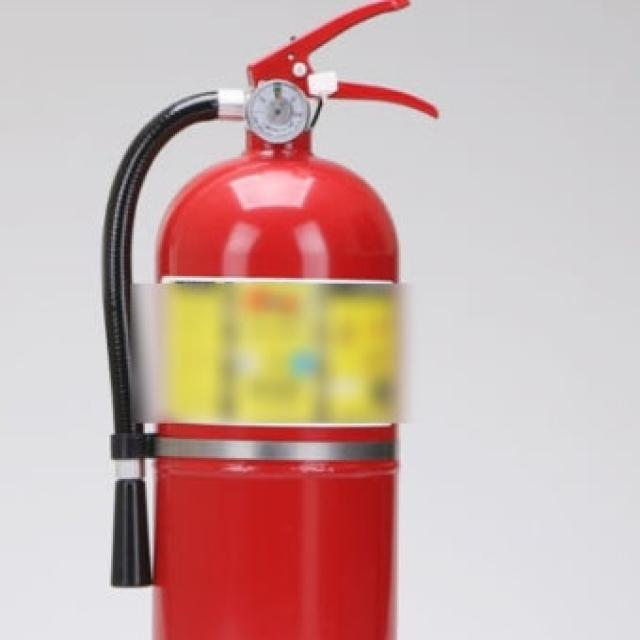pressure gauge: (248, 80, 309, 142)
